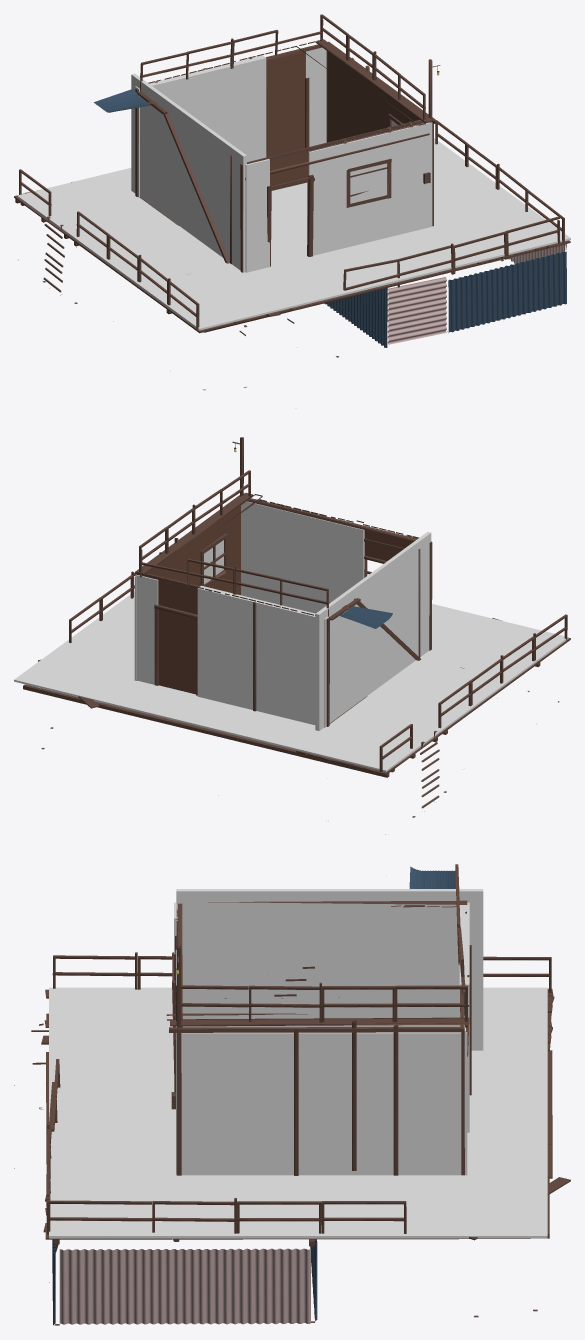
The model's file is mSH3.fbx.
3 renders of one model, top to bottom at view 1: azimuth 30°, elevation 25°; view 2: azimuth 150°, elevation 25°; view 3: azimuth 270°, elevation 25°, orthographic. The views are drawn at different scales.
Parts seen in each view (by area): view 1: Cube, Group1.2; view 2: Cube, Group1.2; view 3: Cube, Group1.2.
Boxes of the visible parts, bbox=[...] form: Cube: bbox=[17, 47, 570, 330]; Group1.2: bbox=[14, 14, 570, 390]; Cube: bbox=[14, 501, 568, 771]; Group1.2: bbox=[23, 437, 570, 834]; Cube: bbox=[49, 889, 547, 1238]; Group1.2: bbox=[14, 864, 570, 1325].
Bounding box in the file's own units: 2166 × 1402 × 2010.
